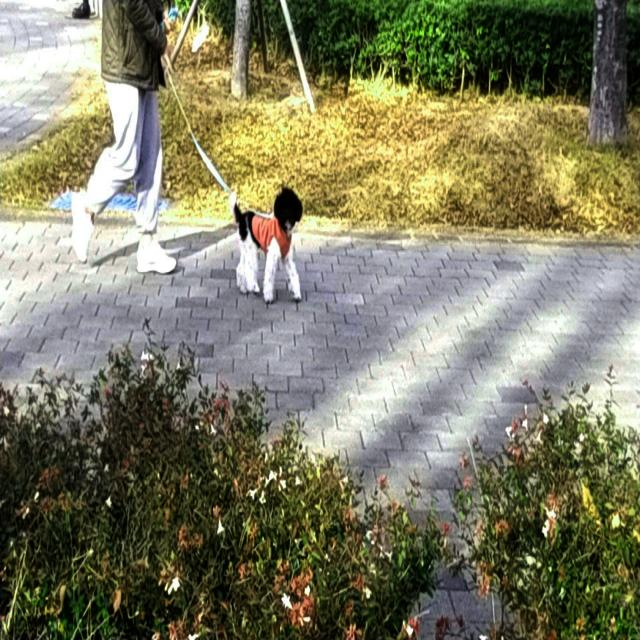Leashed_Dog: (138, 49, 302, 302)
